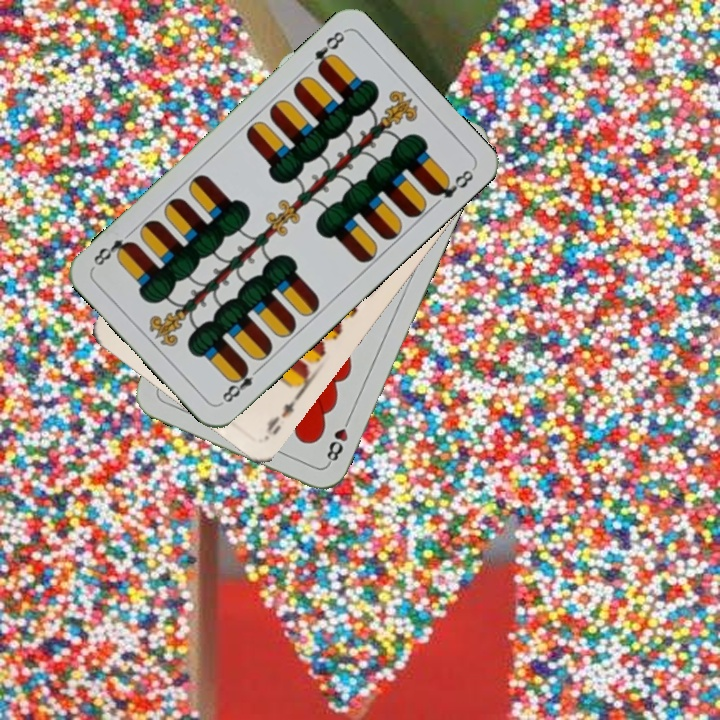E8: (216, 361, 264, 407), (310, 27, 347, 75)
E9: (261, 390, 303, 441)
H8: (322, 411, 354, 467)
